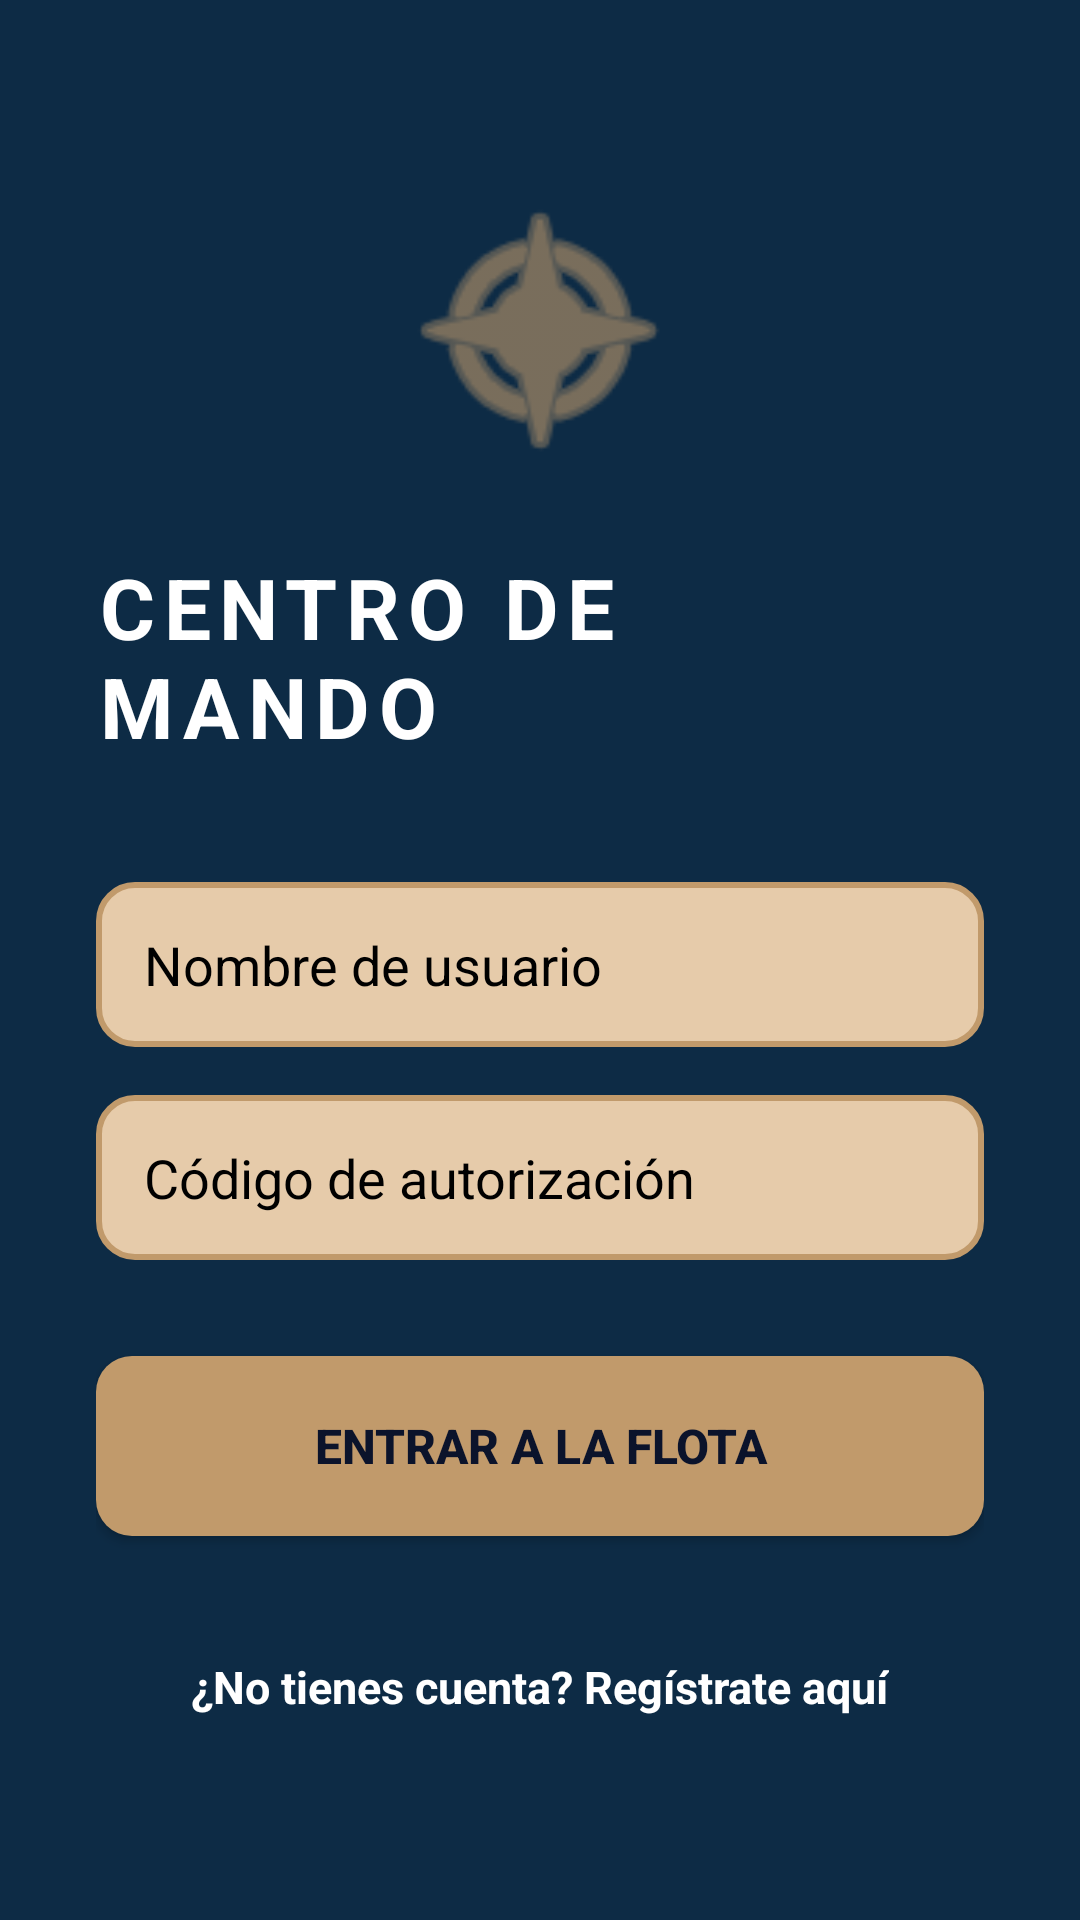

Where to tap for icons on this 1080 x 1920 app screen, as point (x, y):
compass: point (539, 331)
